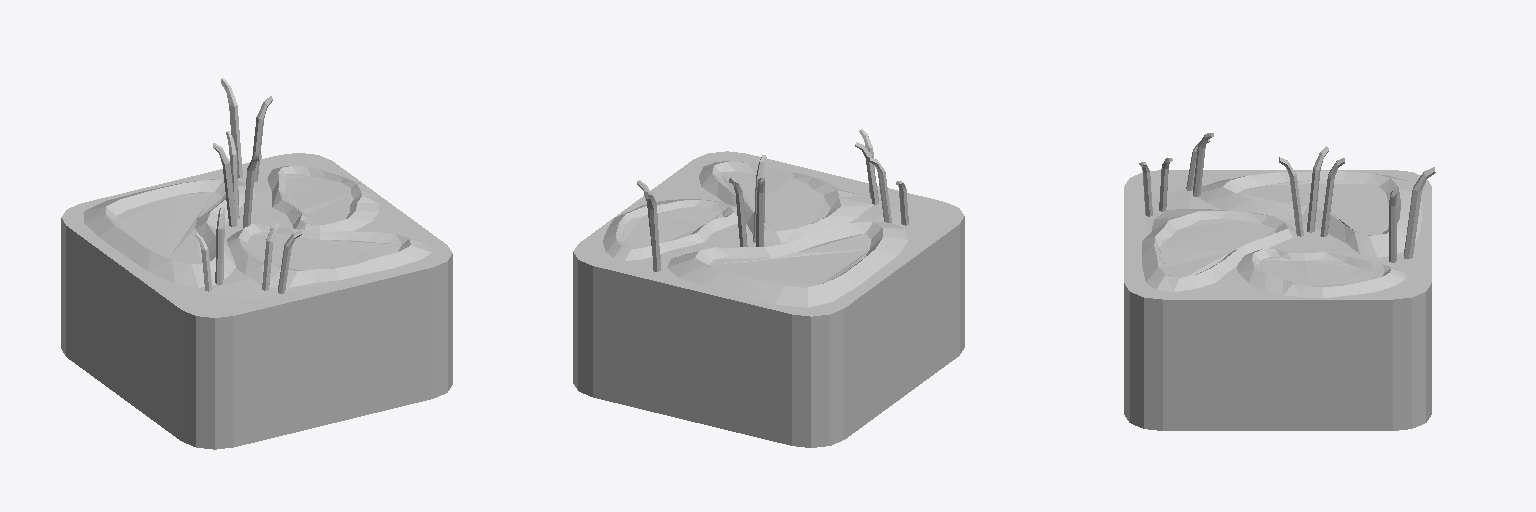
The model's file is tile_mudpit.obj.
3 renders of one model, left to right at view 1: azimuth 30°, elevation 25°; view 2: azimuth 150°, elevation 25°; view 3: azimuth 270°, elevation 25°, orthographic.
Visible parts, largest first — view 1: Cube.001, Circle, Circle.002, Circle.001, Cylinder, Cylinder.002, Cylinder.006, Cylinder.004, Cylinder.001; view 2: Cube.001, Circle, Circle.002, Circle.001, Cylinder, Cylinder.002; view 3: Cube.001, Circle, Circle.002, Circle.001, Cylinder, Cylinder.002, Cylinder.004, Cylinder.003, Cylinder.001.
Boxes of the visible parts, <box> form: Cube.001: <box>61,153,452,449</box>; Circle: <box>84,179,255,287</box>; Circle.002: <box>227,224,431,287</box>; Circle.001: <box>268,166,378,231</box>; Cylinder: <box>221,78,242,177</box>; Cylinder.002: <box>213,143,236,226</box>; Cylinder.006: <box>215,207,224,284</box>; Cylinder.004: <box>243,155,261,227</box>; Cylinder.001: <box>252,96,272,181</box>; Cube.001: <box>573,151,964,447</box>; Circle: <box>667,222,907,307</box>; Circle.002: <box>699,161,872,242</box>; Circle.001: <box>603,199,737,260</box>; Cylinder: <box>644,192,660,271</box>; Cylinder.002: <box>756,178,764,246</box>; Cube.001: <box>1124,170,1431,430</box>; Circle: <box>1199,171,1422,257</box>; Circle.002: <box>1142,209,1295,291</box>; Circle.001: <box>1237,249,1405,297</box>; Cylinder: <box>1404,167,1435,258</box>; Cylinder.002: <box>1307,146,1328,232</box>; Cylinder.004: <box>1279,157,1303,236</box>; Cylinder.003: <box>1320,158,1344,236</box>; Cylinder.001: <box>1389,191,1396,262</box>.
Size of the model in its own units: 2 by 1.58 by 2.03.